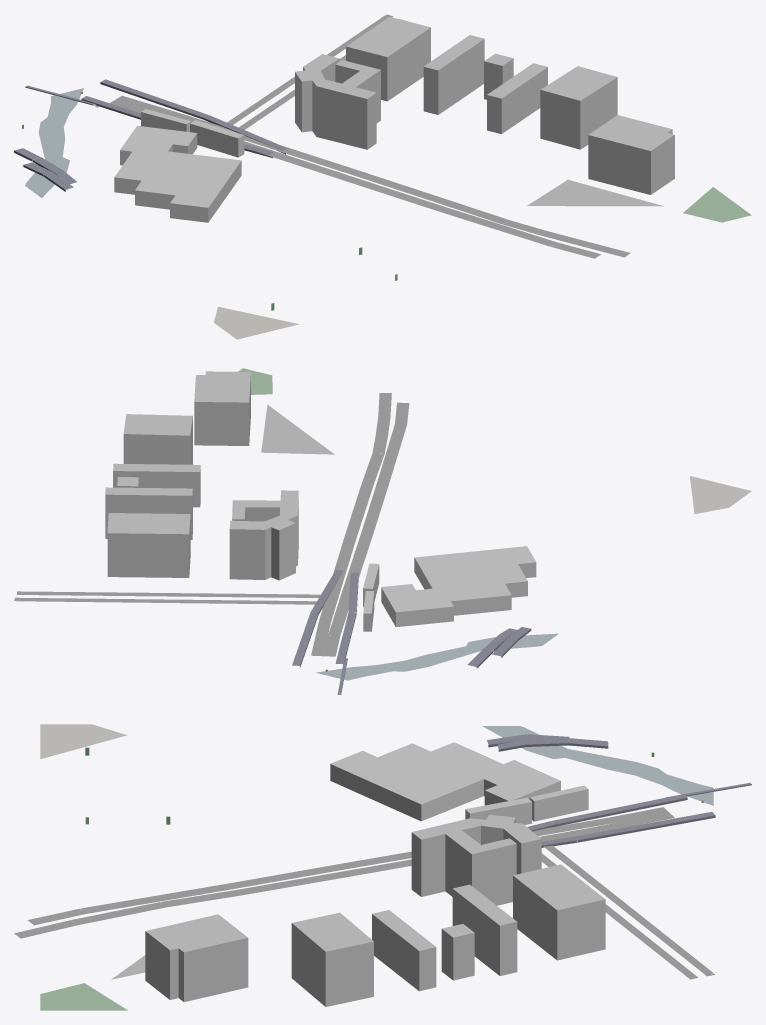
The picture shows the model from 3 angles, top to bottom: view 1: azimuth 30°, elevation 25°; view 2: azimuth 150°, elevation 25°; view 3: azimuth 270°, elevation 25°; orthographic projection. The views are drawn at different scales.
Bounding box in the file's own units: 500 × 48.65 × 548.
